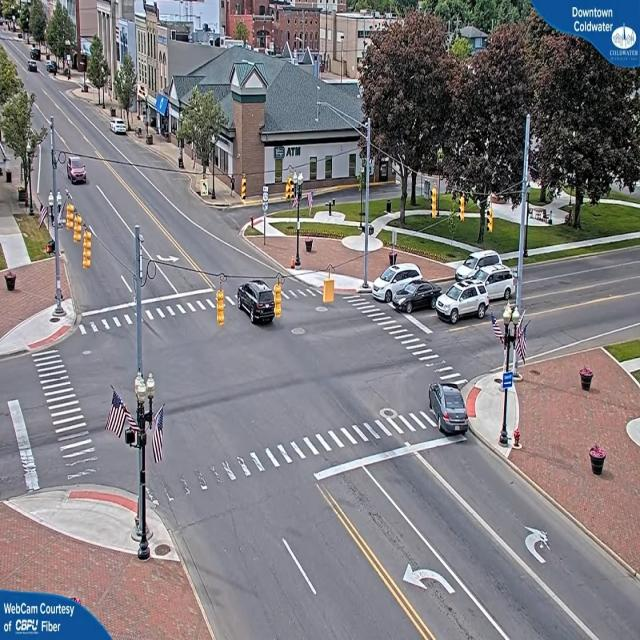car: (426, 382, 475, 437), (436, 280, 490, 328), (238, 279, 275, 326), (394, 280, 441, 311), (371, 264, 424, 291), (456, 248, 500, 277), (485, 260, 516, 300)
